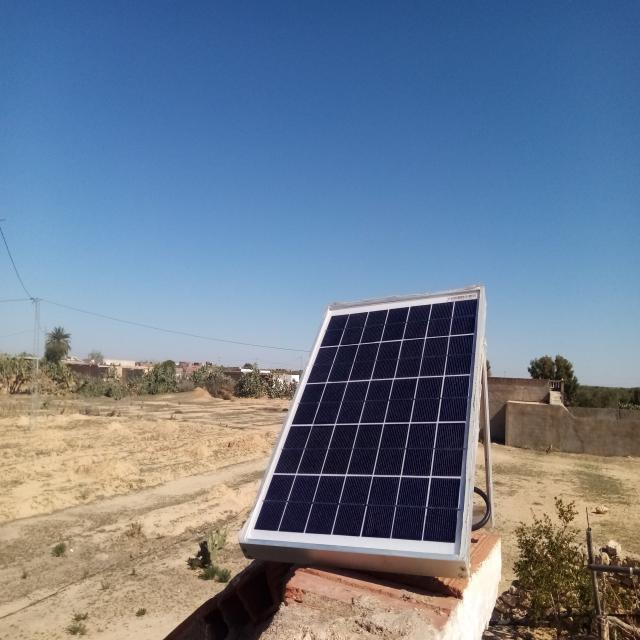no faulty: (242, 288, 481, 560)
